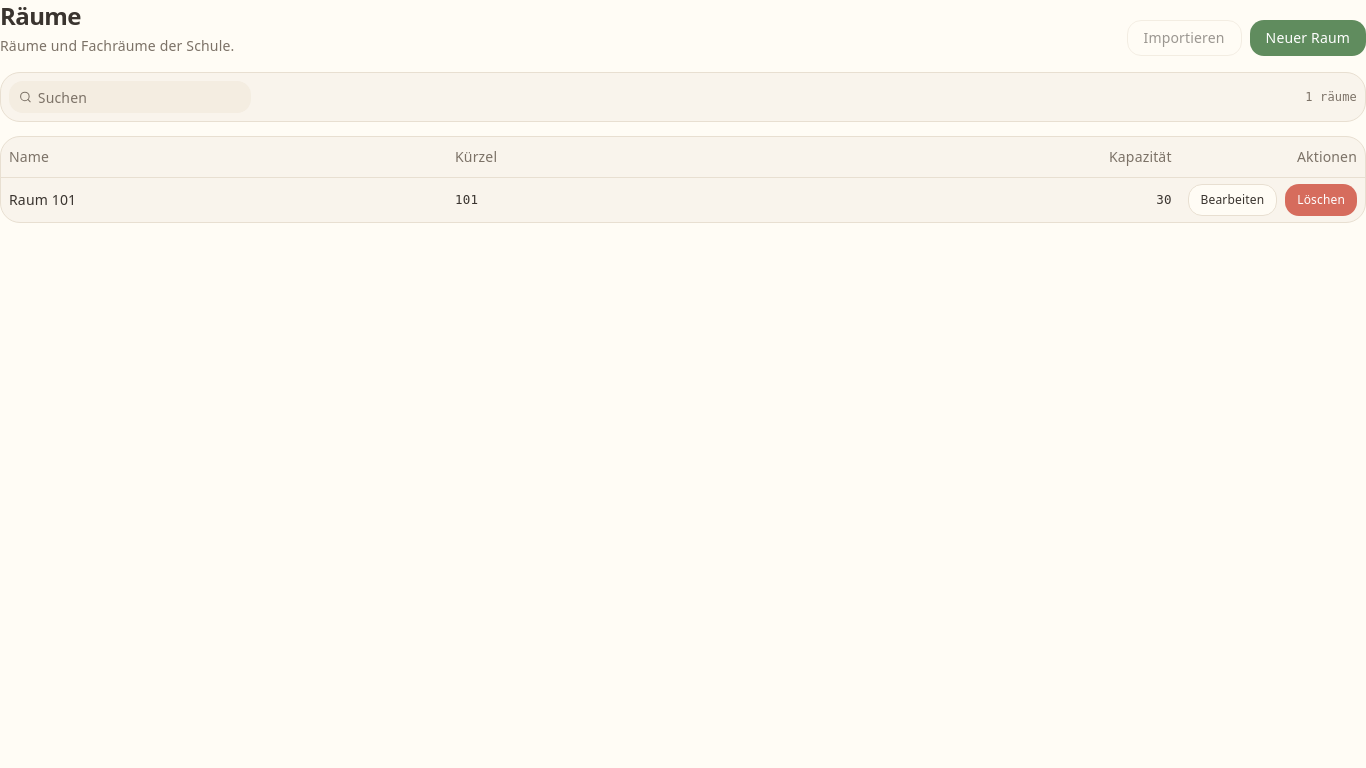
Test case: RoomsPage › creates a room via the dialog and closes on success
expect the text "Raum 101" is shown: met, box [1, 177, 447, 222]
Click the button "Neuer Raum" at coordinates (1308, 38), box [1250, 20, 1365, 56]
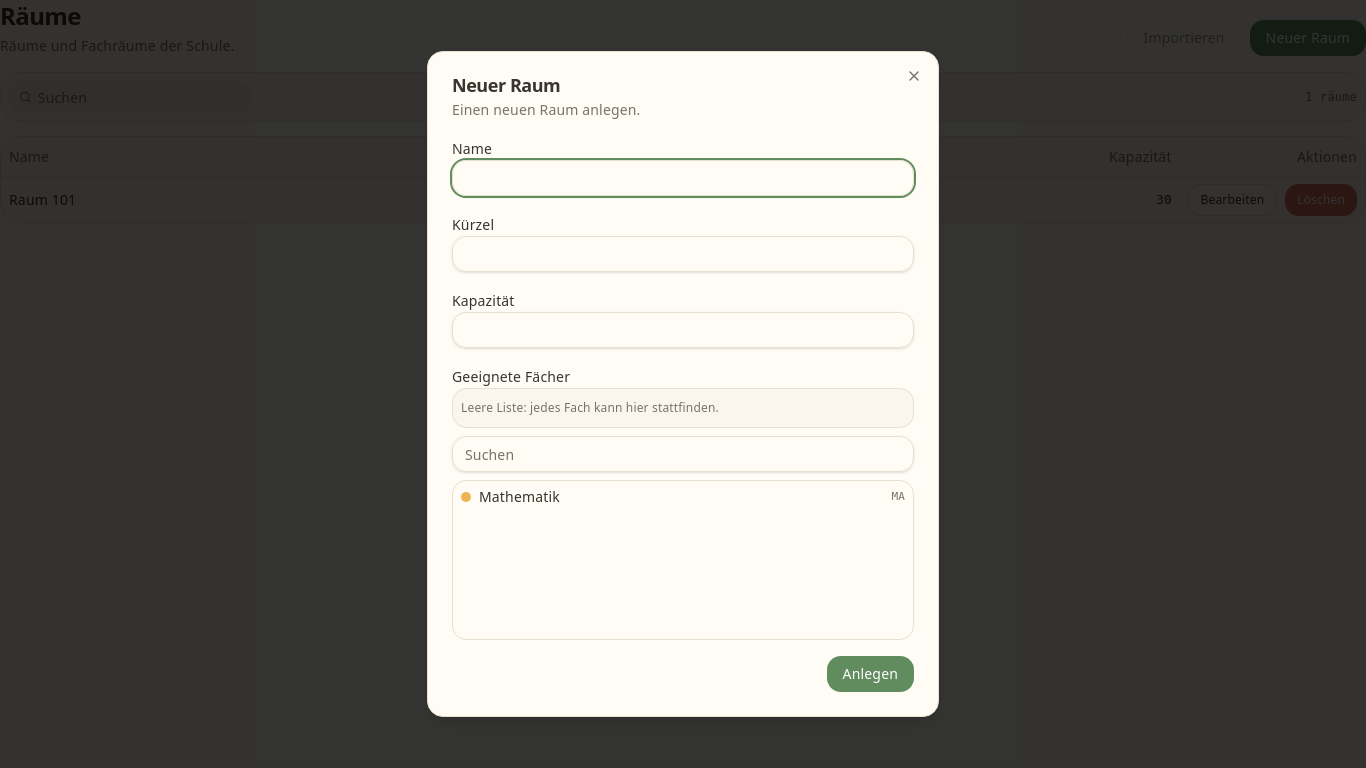
Type "Raum 102" into the field labelled "Name" at coordinates (683, 178), box [452, 160, 914, 196]
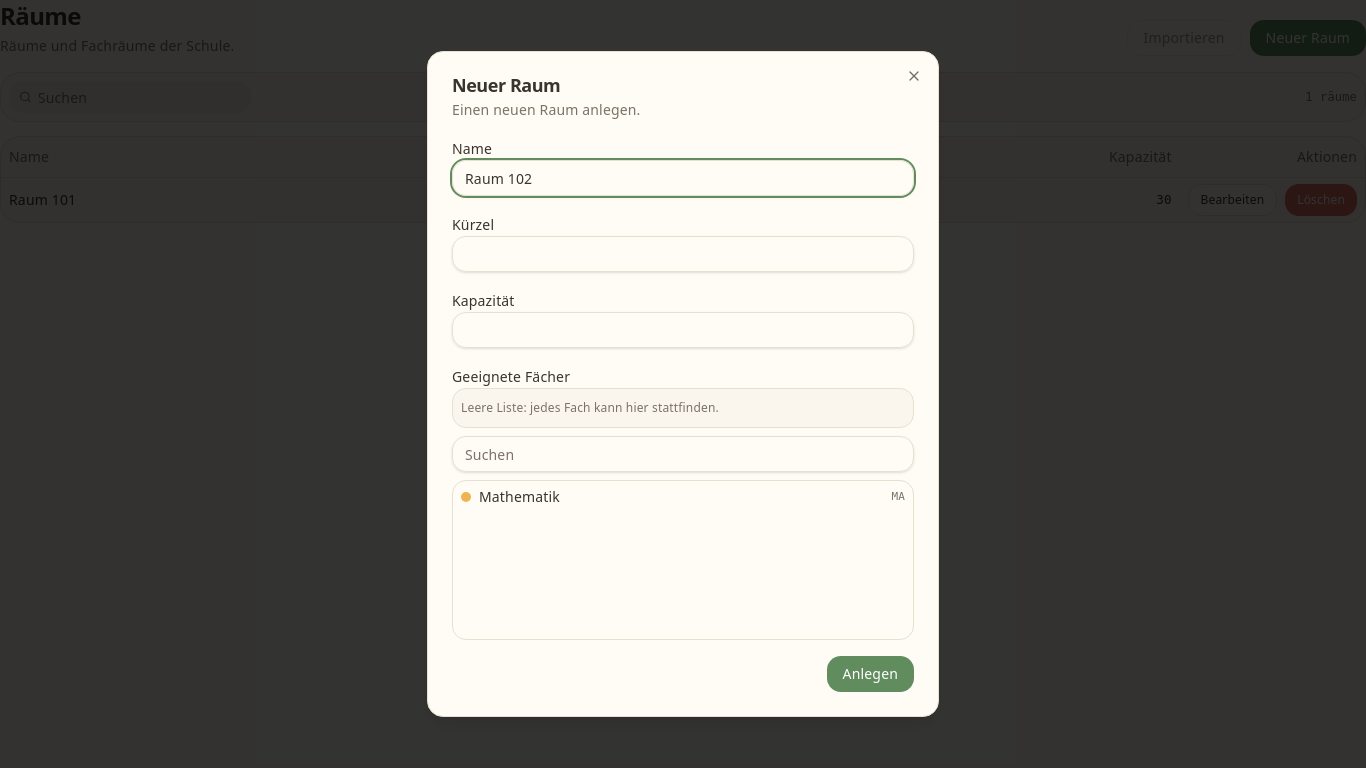
Type "102" into the field labelled "Kürzel" at coordinates (683, 254), box [452, 236, 914, 272]
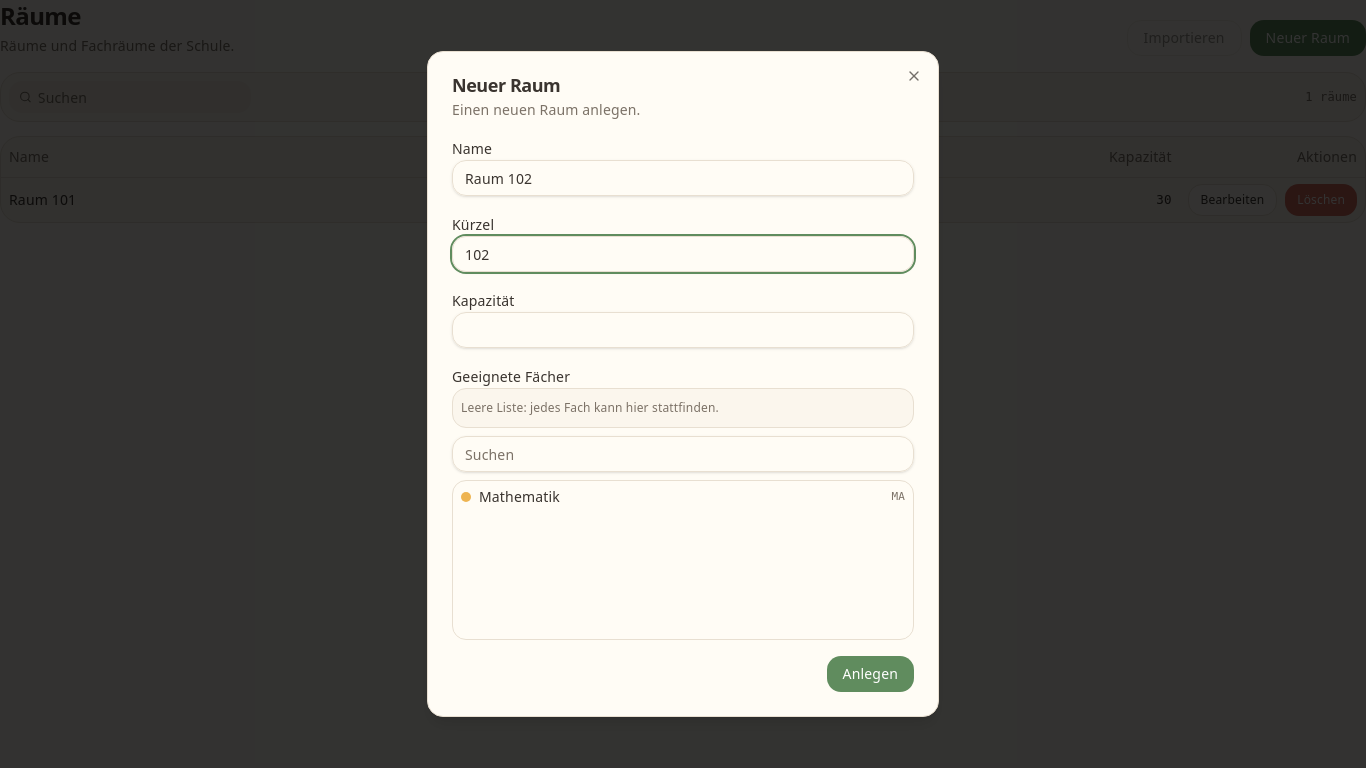
Click the button "Anlegen" at coordinates (870, 674), box [827, 656, 914, 692]
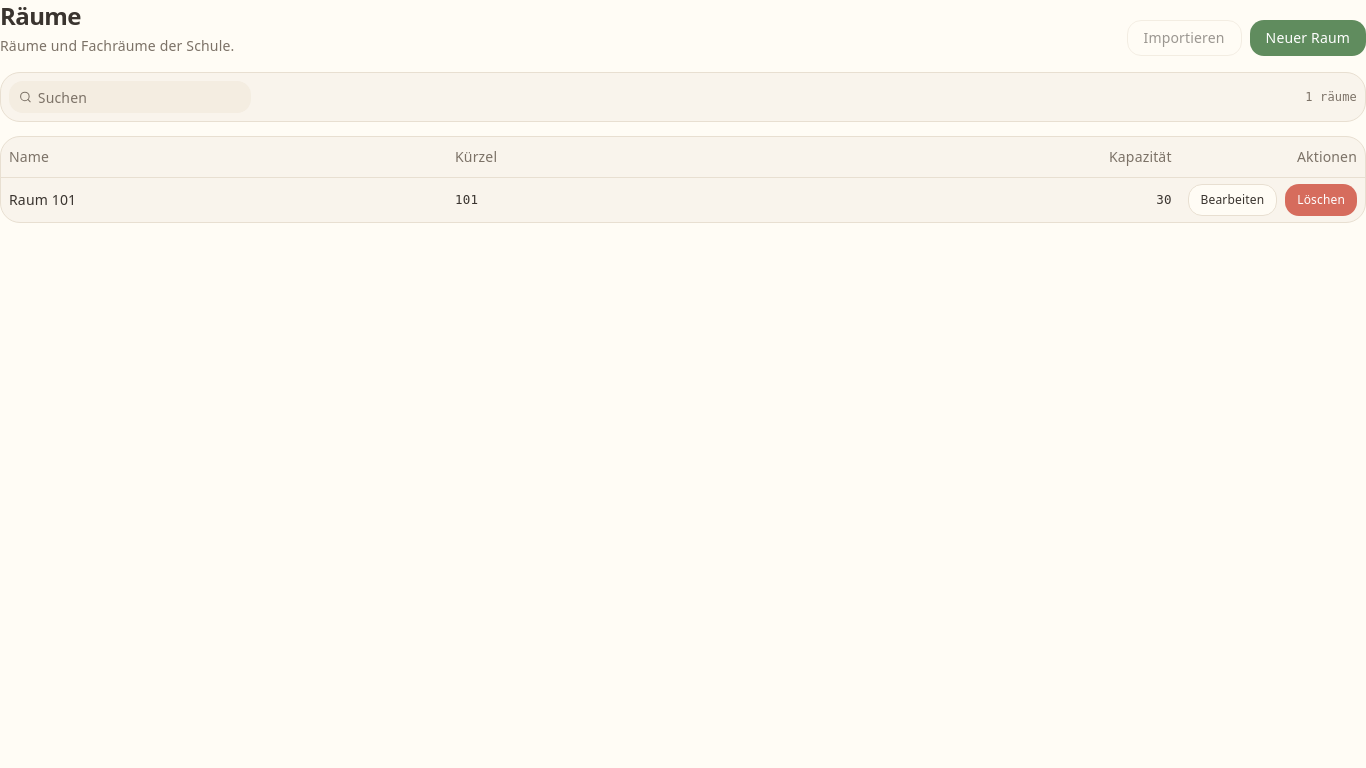
expect the dialog is gone: met
